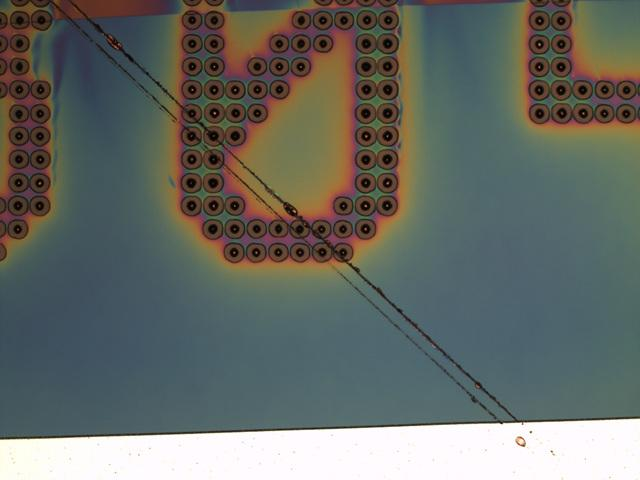SCRATCH: (36, 1, 530, 428)
